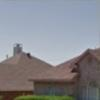chimneys: (14, 42, 22, 56)
